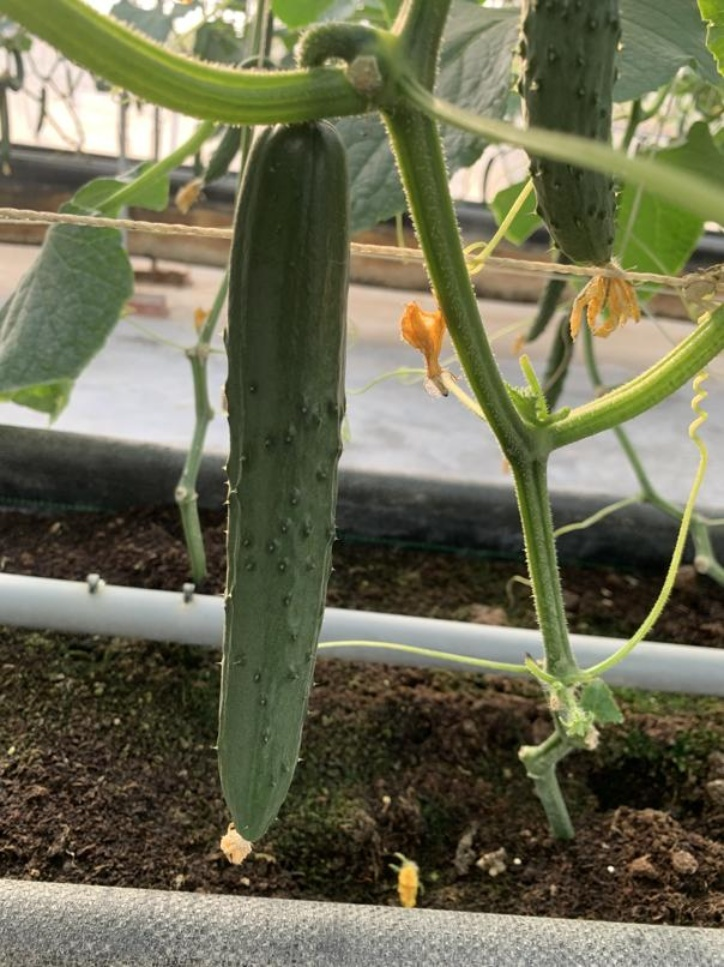mature: (208, 117, 355, 857), (504, 0, 646, 316)
